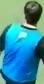blue: (0, 1, 44, 84)
